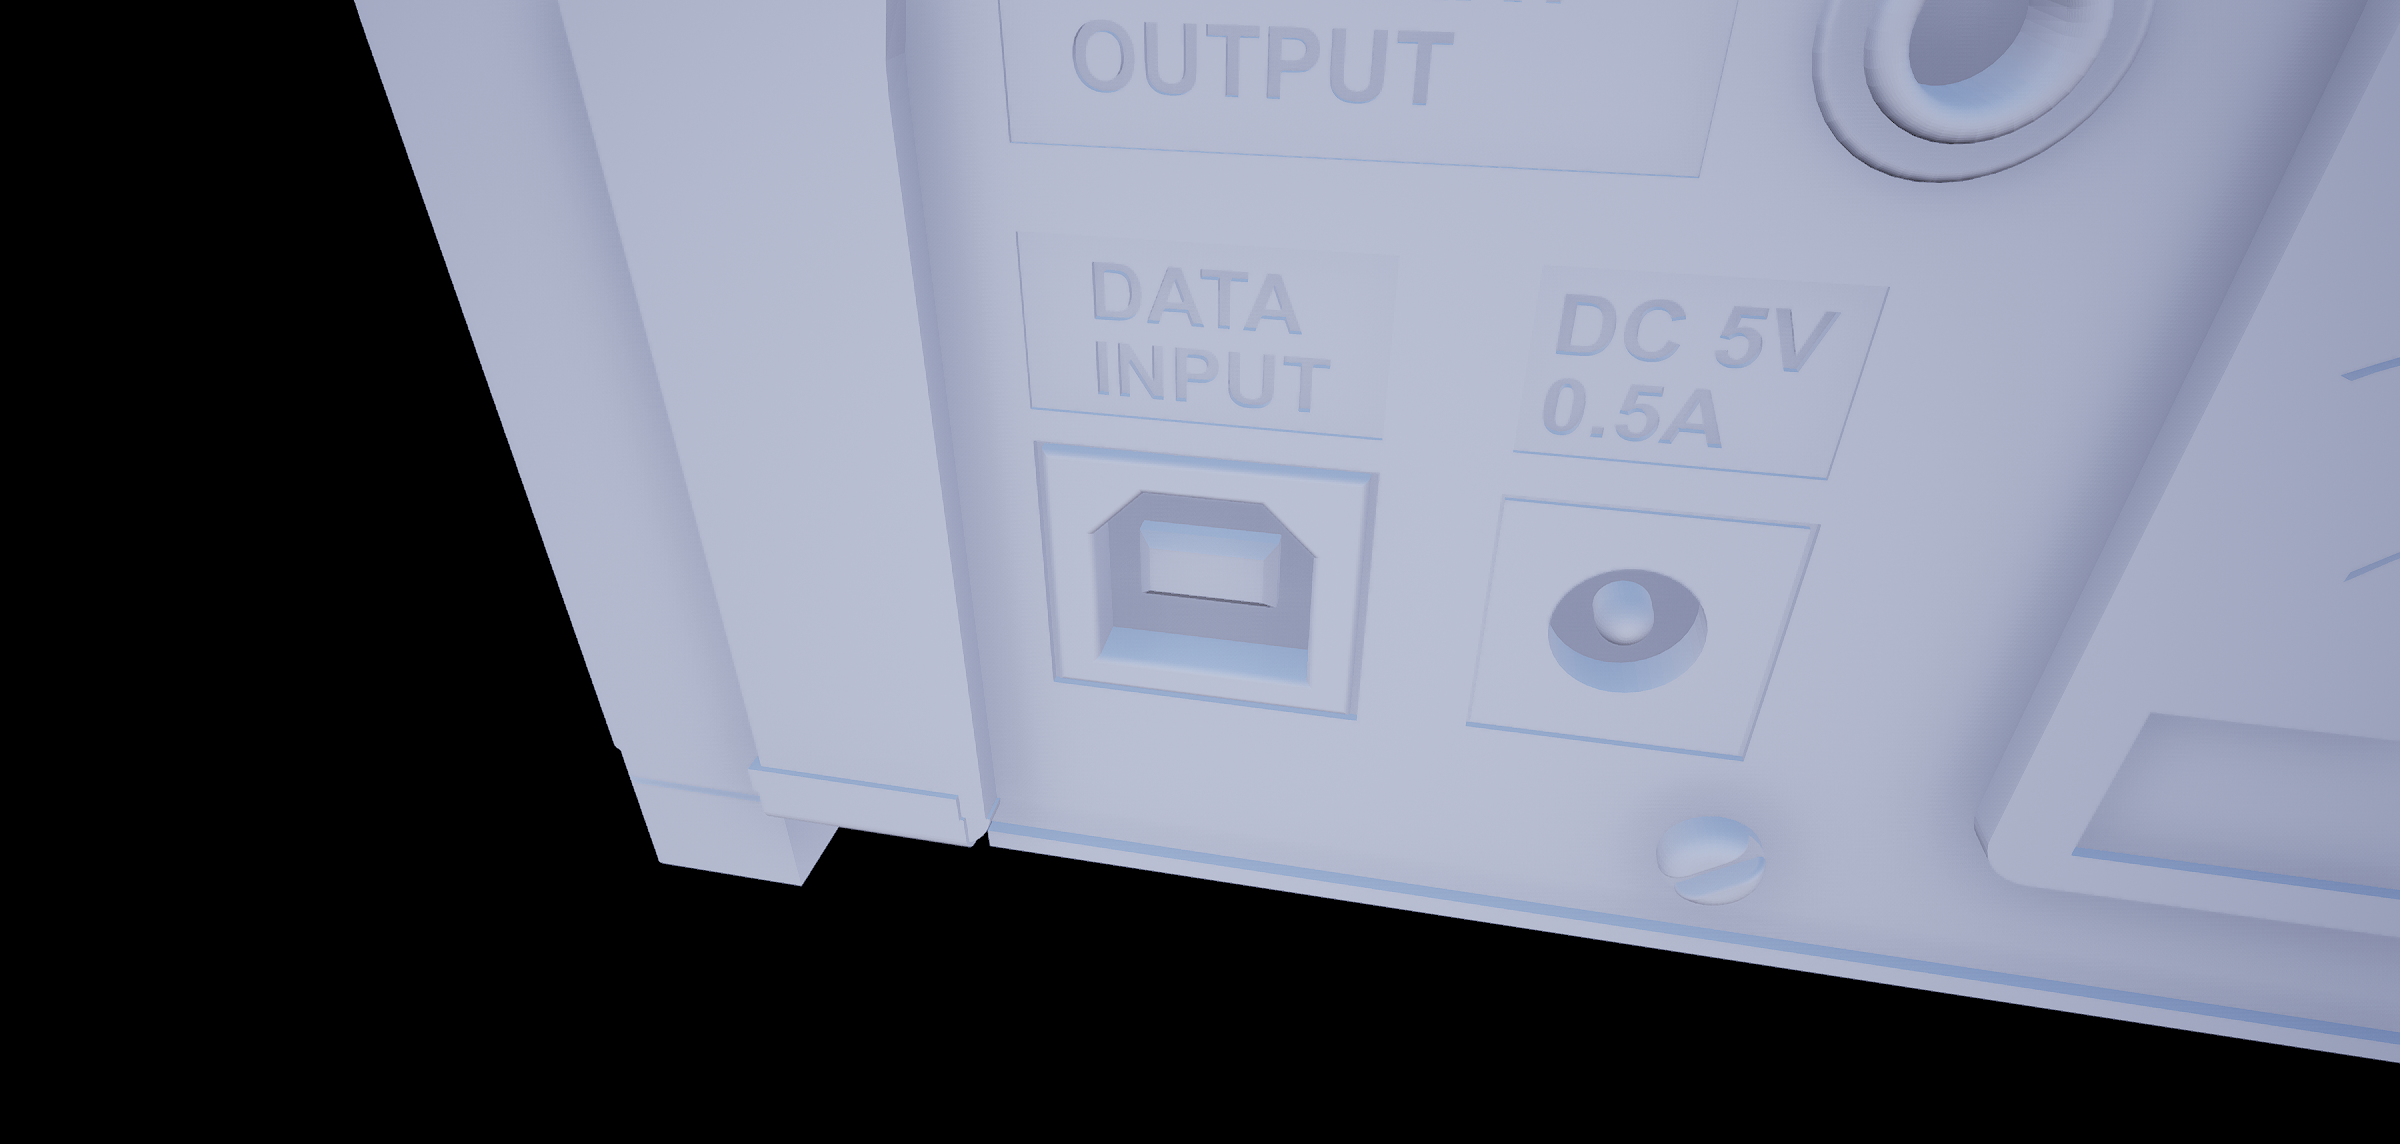aux: (1802, 2, 2167, 191)
dc: (1523, 547, 1720, 721)
usb: (1071, 476, 1332, 700)
